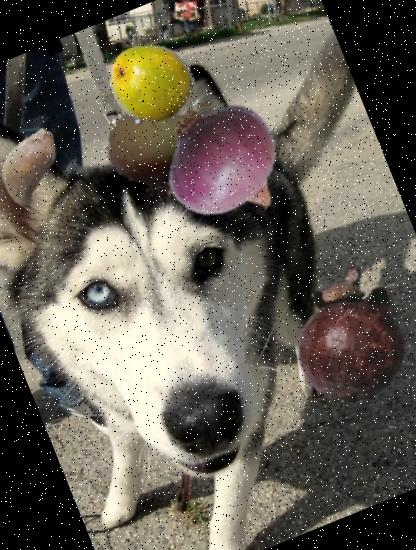Mangostan: (262, 242, 416, 422)
Maracuja: (96, 28, 208, 140)
Onion: (144, 82, 308, 246)
Peach: (86, 63, 266, 243)
Potato: (0, 110, 82, 218)
